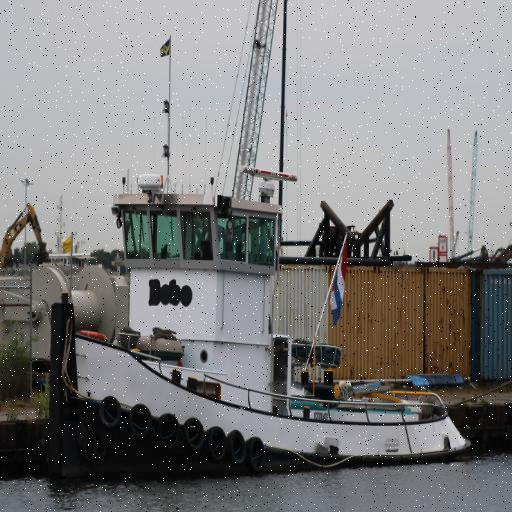tugboat: (48, 169, 474, 490)
